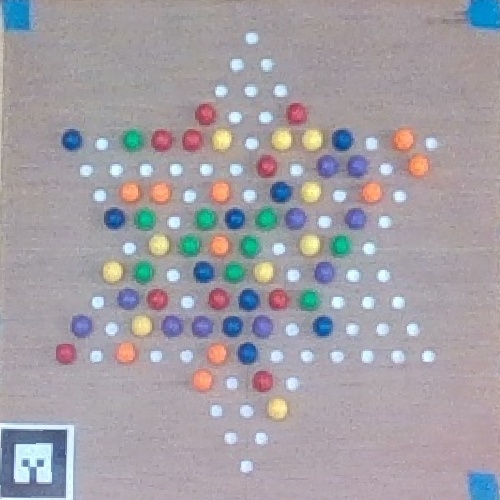blue: (331, 128, 354, 151), (103, 207, 126, 229), (238, 288, 260, 311), (313, 314, 333, 338), (225, 207, 246, 229), (62, 129, 82, 152), (237, 341, 257, 364), (194, 260, 213, 283), (271, 181, 290, 203), (223, 315, 242, 337)
empty_peg: (378, 160, 394, 177), (298, 347, 314, 364), (421, 347, 437, 364), (88, 346, 103, 364), (285, 375, 300, 392), (256, 110, 274, 124), (243, 82, 259, 97), (273, 82, 289, 97), (93, 188, 109, 203), (255, 430, 270, 446), (239, 458, 254, 474), (199, 161, 213, 178), (391, 187, 406, 202), (239, 403, 254, 418), (245, 29, 259, 45), (244, 136, 260, 150), (80, 164, 96, 178), (229, 161, 243, 177), (362, 240, 376, 256), (346, 267, 360, 283), (284, 321, 298, 337), (391, 349, 405, 365), (224, 430, 238, 446), (95, 136, 109, 151), (365, 135, 379, 150), (273, 240, 287, 255), (377, 267, 391, 282), (180, 293, 194, 308), (391, 295, 405, 310), (148, 349, 163, 363), (375, 323, 391, 336), (331, 348, 344, 364), (261, 58, 275, 72), (214, 83, 228, 97), (289, 161, 303, 175), (406, 322, 420, 336), (361, 350, 375, 364), (228, 109, 241, 124), (109, 163, 124, 176), (139, 163, 154, 176), (168, 214, 181, 229), (317, 215, 332, 228), (167, 267, 180, 282), (91, 293, 104, 308), (180, 347, 192, 363), (231, 57, 244, 71), (425, 136, 439, 149), (334, 188, 347, 202), (379, 215, 393, 228), (210, 403, 223, 417), (225, 375, 237, 390), (271, 348, 282, 364), (170, 163, 183, 176), (361, 295, 374, 308), (123, 240, 135, 254), (287, 268, 299, 282), (332, 295, 344, 309), (106, 321, 118, 335), (347, 322, 358, 336)
green: (135, 208, 158, 232), (179, 233, 202, 256), (121, 128, 143, 151), (193, 208, 216, 229), (331, 233, 352, 256), (256, 207, 277, 229), (240, 235, 261, 257), (299, 289, 320, 311), (134, 261, 154, 282), (224, 261, 244, 282)
orange: (114, 340, 139, 366), (409, 154, 430, 177), (209, 180, 230, 202), (395, 128, 415, 151), (207, 343, 227, 366), (149, 181, 170, 201), (194, 372, 214, 393), (121, 181, 140, 203), (210, 235, 229, 256)
purple: (70, 313, 92, 337), (118, 287, 140, 310), (191, 316, 213, 339), (318, 155, 338, 178), (253, 316, 273, 339), (347, 156, 367, 178), (286, 208, 306, 229), (347, 207, 366, 229), (314, 261, 333, 283), (163, 316, 181, 338)
red: (207, 288, 230, 310), (268, 288, 290, 311), (55, 343, 76, 365), (254, 370, 273, 394), (182, 129, 202, 151), (257, 154, 277, 176), (147, 288, 167, 310), (287, 102, 306, 124), (196, 104, 215, 125), (152, 130, 171, 150)
yellow: (103, 259, 124, 284), (211, 130, 233, 152), (300, 180, 322, 202), (302, 128, 323, 151), (150, 233, 169, 257), (132, 314, 152, 336), (273, 128, 292, 151), (269, 399, 288, 421), (300, 234, 318, 257)
